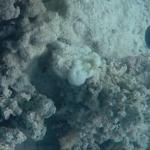dead: (3, 1, 145, 147)
